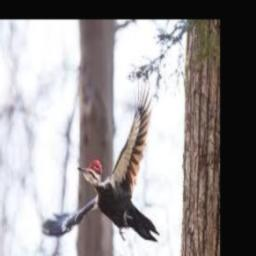Woodpecker: (41, 80, 159, 241)
